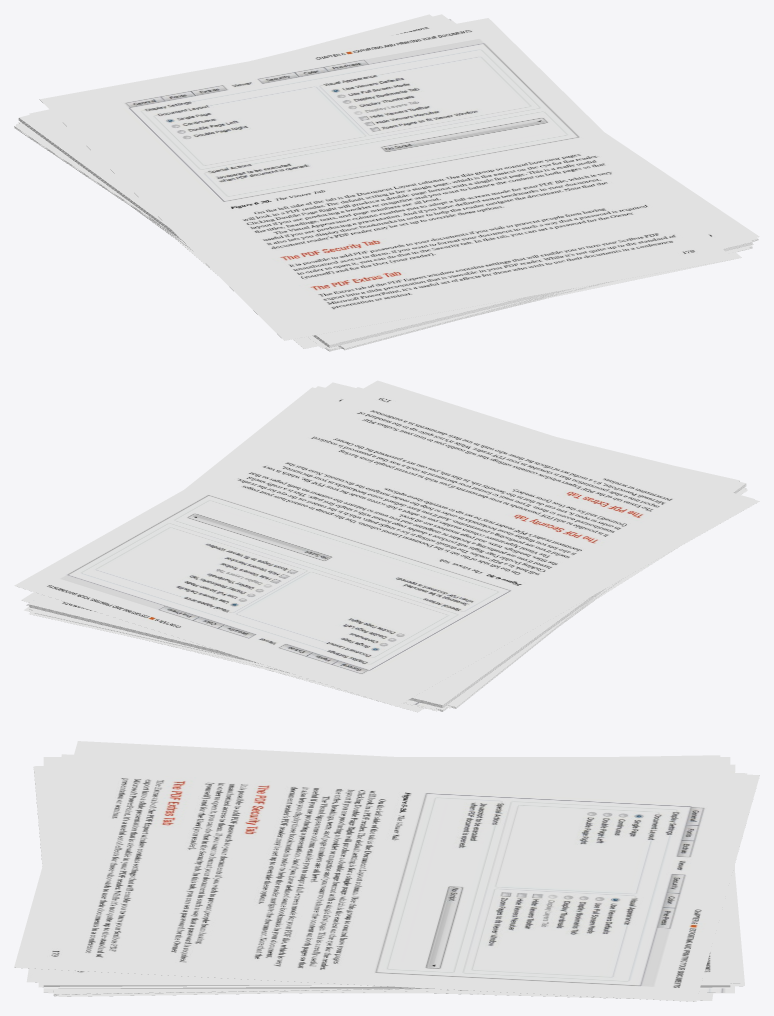
The model's file is Paper.glb.
3 views of the same model, one above another, from view 1: azimuth 30°, elevation 25°; view 2: azimuth 150°, elevation 25°; view 3: azimuth 270°, elevation 25° (orthographic). The views are drawn at different scales.
Visible parts, largest first — view 1: Plane.015; view 2: Plane.015; view 3: Plane.015.
Boxes of the visible parts, box(x1,y1,x2,y2) form: Plane.015: box(14, 14, 759, 351); Plane.015: box(14, 380, 759, 712); Plane.015: box(14, 741, 759, 1001).
Size of the model in its own units: 0.2401 by 0.00325 by 0.29.
1 material, 1 textured.
